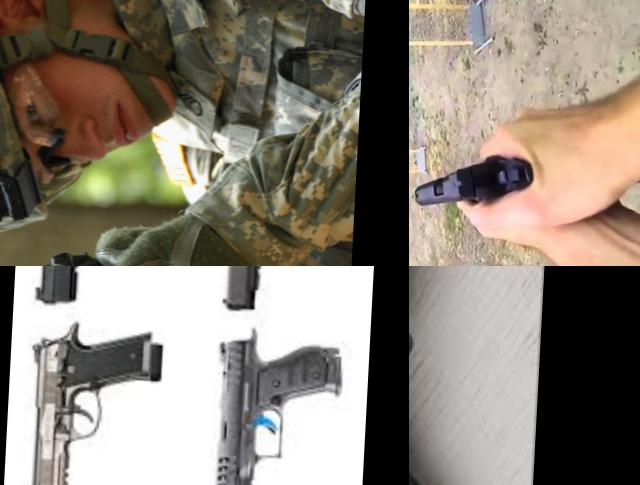handgun: (409, 266, 567, 485), (20, 315, 165, 485), (204, 321, 349, 485), (409, 143, 640, 221), (27, 266, 172, 346), (216, 266, 348, 351)
